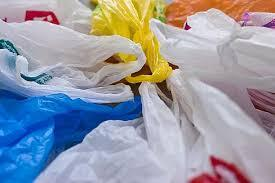Plastic bag: (0, 1, 275, 183)
